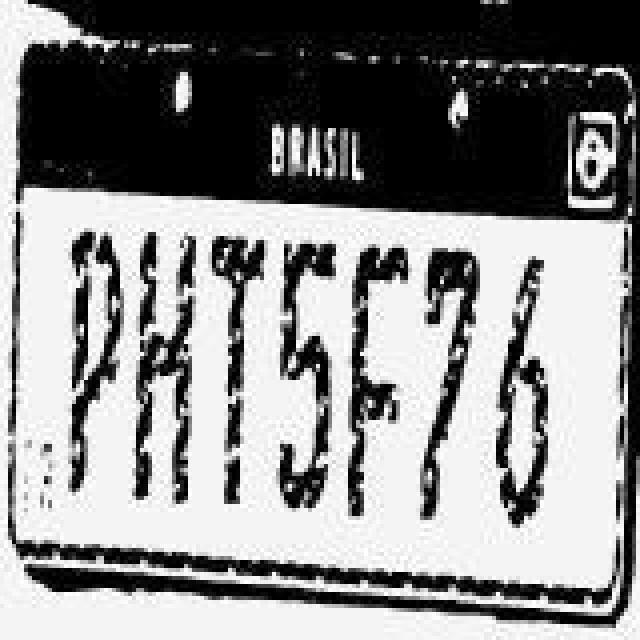5: (278, 234, 346, 518)
6: (496, 250, 568, 534)
7: (418, 244, 486, 524)
F: (346, 240, 422, 528)
H: (128, 228, 208, 524)
P: (56, 224, 128, 520)
T: (208, 232, 272, 520)
